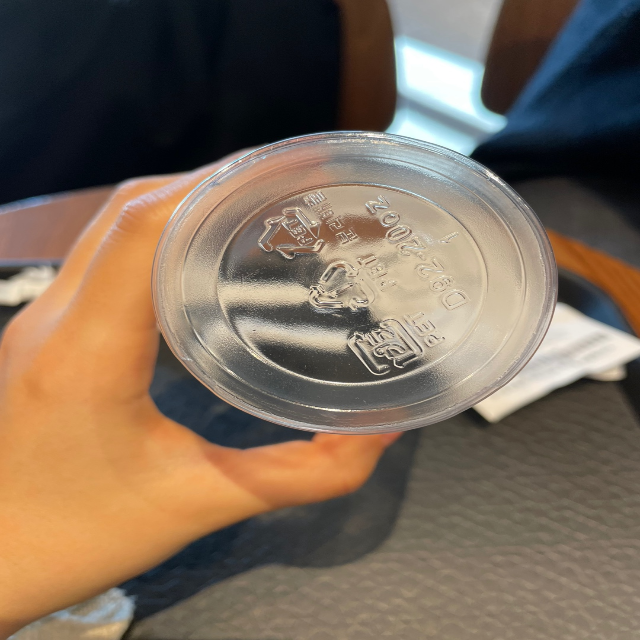pet: (253, 188, 364, 259), (344, 309, 454, 379), (305, 257, 402, 316)
